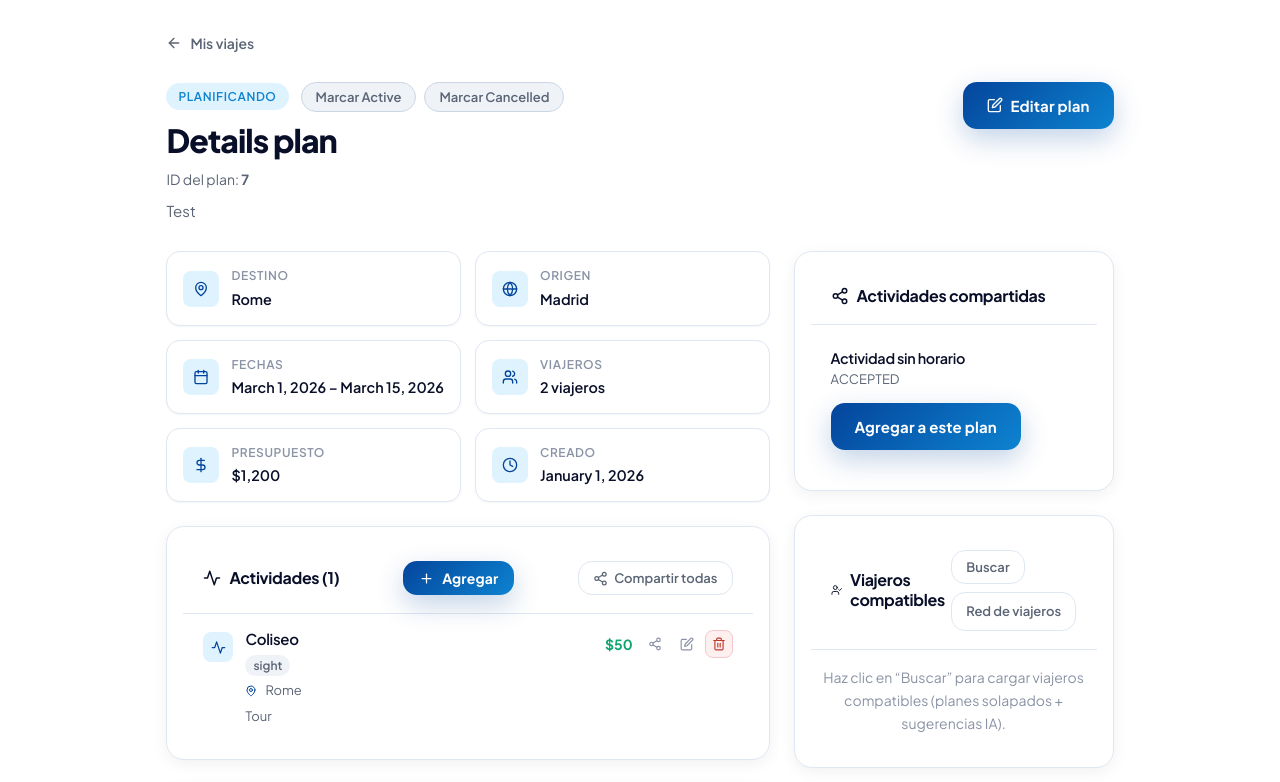
Test: TravelDetails › muestra un error si una actividad aceptada no tiene horario para copiar
The width and height of the screenshot is (1280, 782).
Step 1. Click the button "Agregar a este plan" → [926, 426], box [830, 403, 1021, 450]
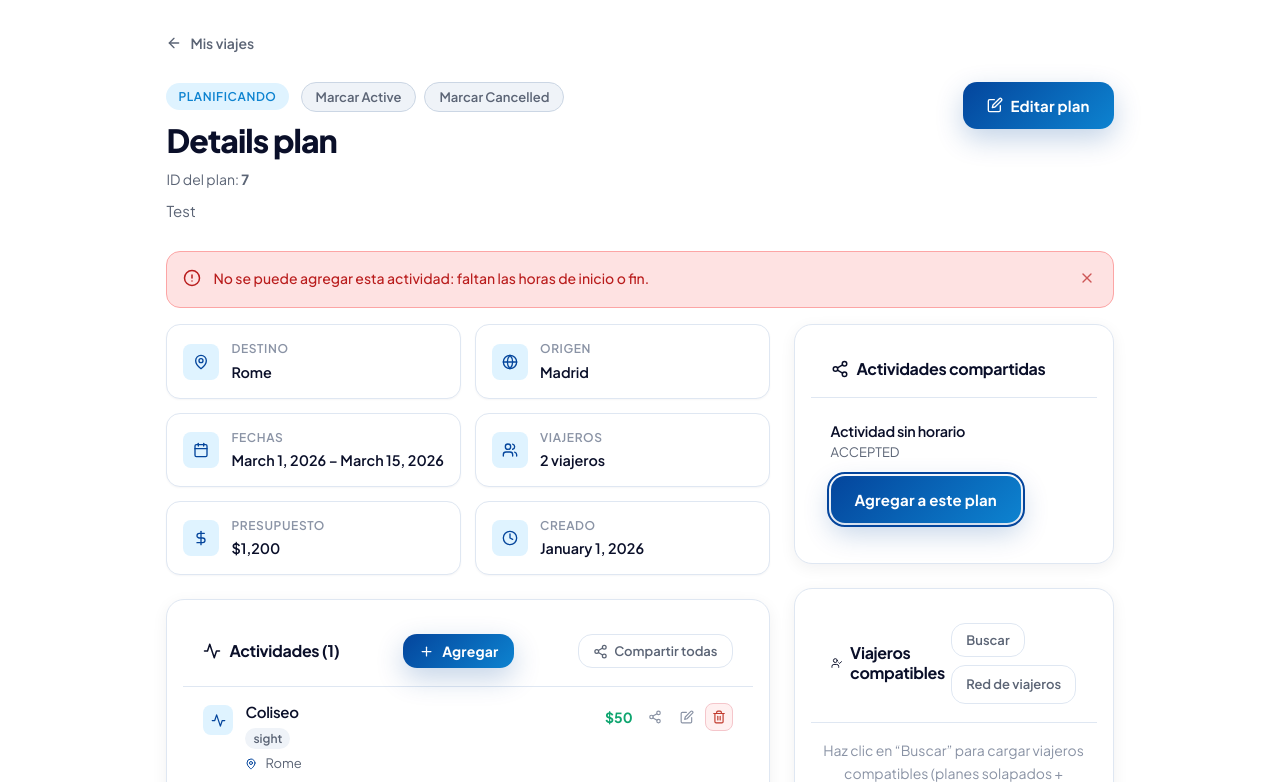
Now the text "faltan las horas de inicio o fin" is shown, box [214, 269, 649, 287]
